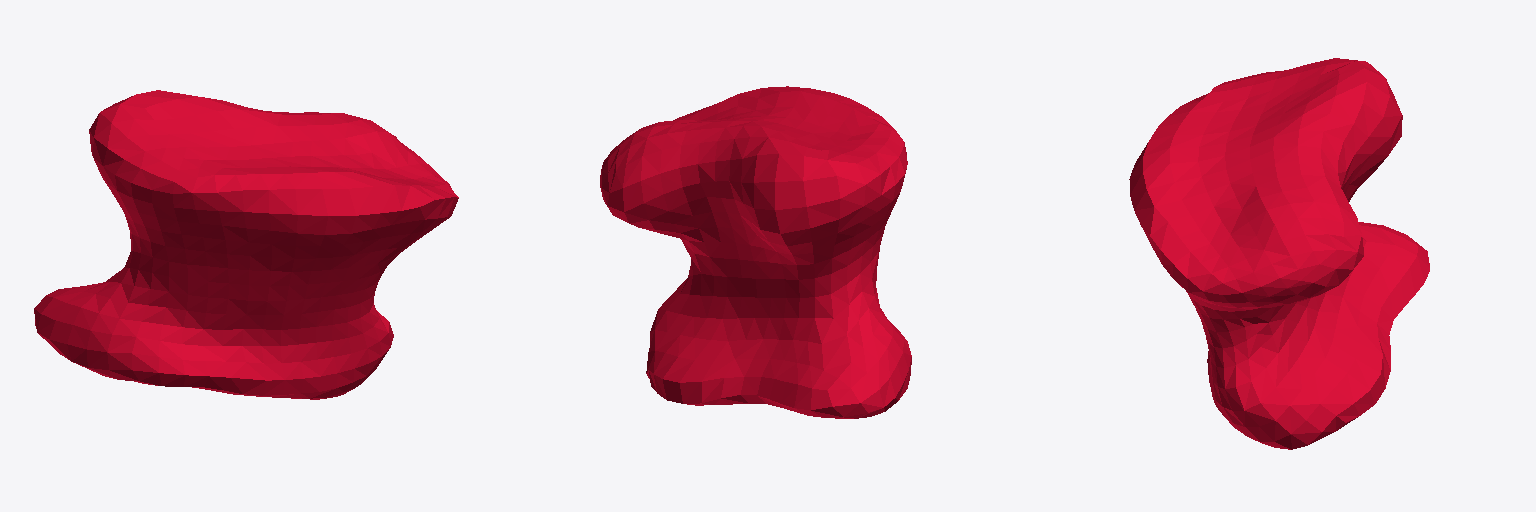
File: MiddlePhalanx_2.obj
3 views of the same model, side by side, from view 1: azimuth 30°, elevation 25°; view 2: azimuth 150°, elevation 25°; view 3: azimuth 270°, elevation 25° (orthographic).
Visible parts, largest first — view 1: Object_0MiddlePhalanx_2; view 2: Object_0MiddlePhalanx_2; view 3: Object_0MiddlePhalanx_2.
Boxes of the visible parts, x1=… form: Object_0MiddlePhalanx_2: x1=34, y1=90, x2=458, y2=399; Object_0MiddlePhalanx_2: x1=600, y1=86, x2=911, y2=418; Object_0MiddlePhalanx_2: x1=1129, y1=58, x2=1429, y2=449.
Size of the model in its own units: 13.15 by 11.24 by 10.25.